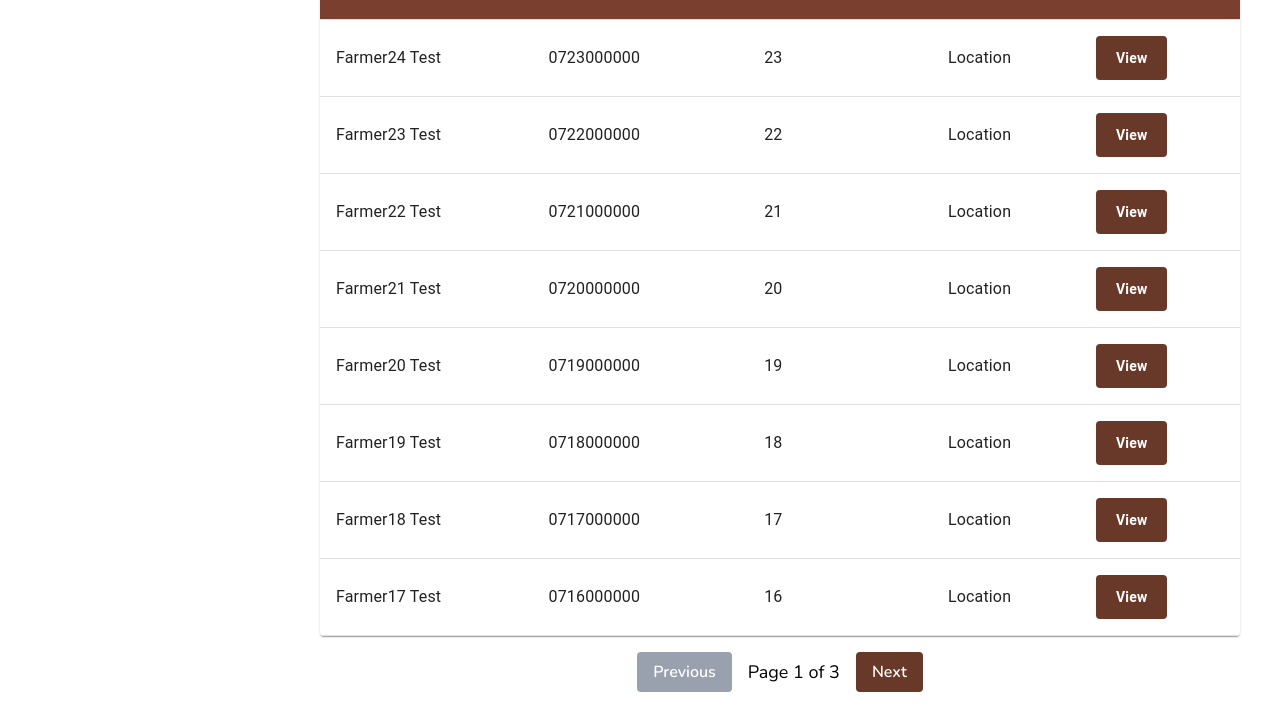
Test: FarmersPage › handles page navigation
(page scrolled)
Expected: the text "Page 1 of 3" is shown, [748,658,840,686]
Click the button "Next".
click(889, 672)  # box [856,652,923,692]
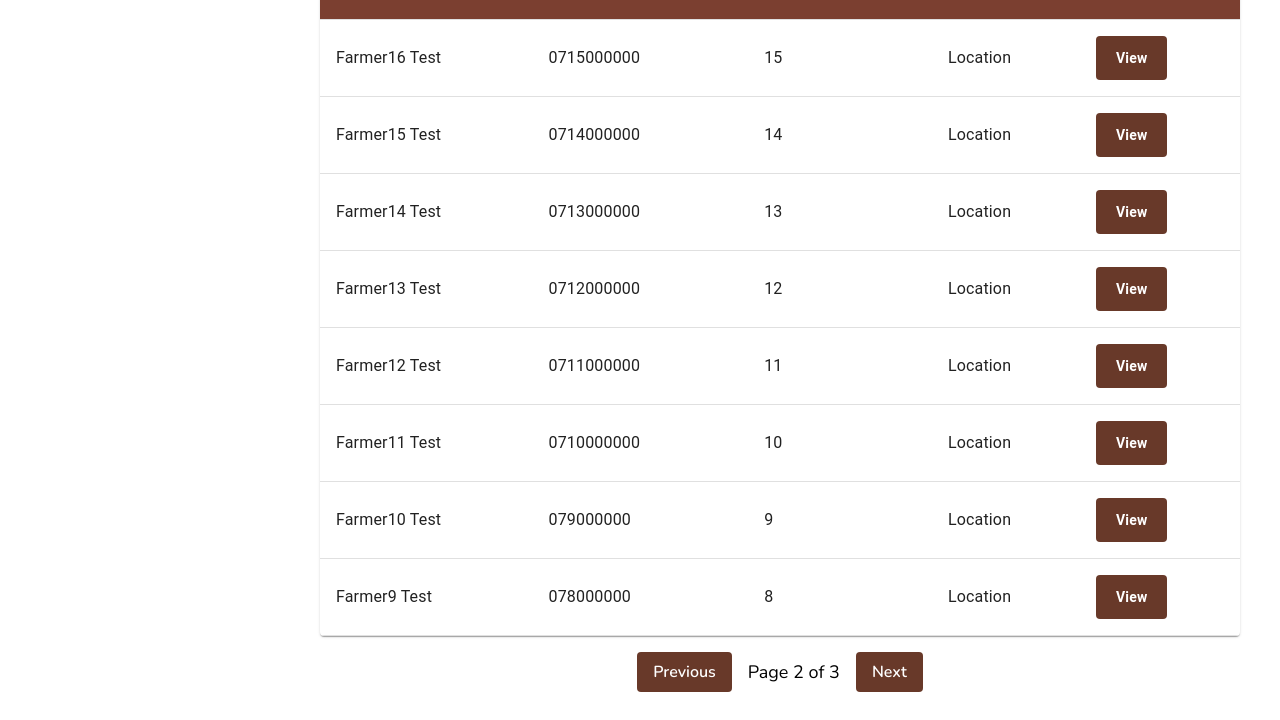
Expected: the text "Page 2 of 3" is shown, [748,658,840,686]
Click the button "Previous".
click(685, 672)  # box [637,652,732,692]
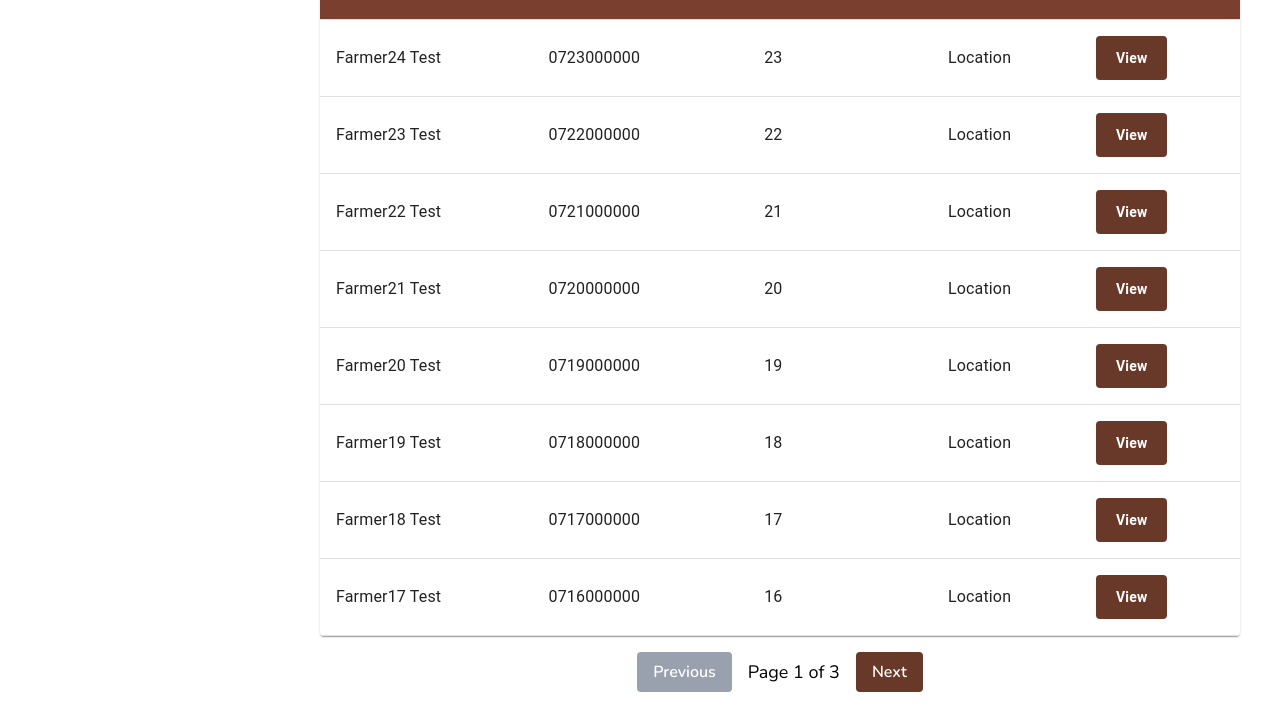
Expected: the text "Page 1 of 3" is shown, [748,658,840,686]
